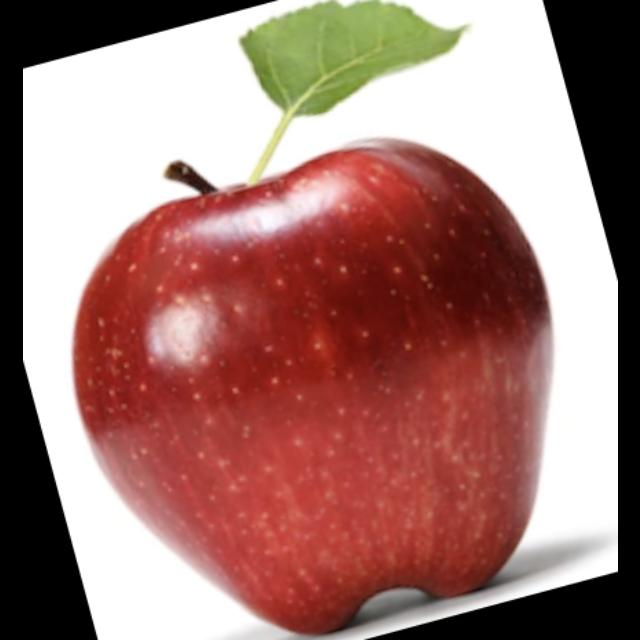Apel Segar: (66, 130, 568, 640)
